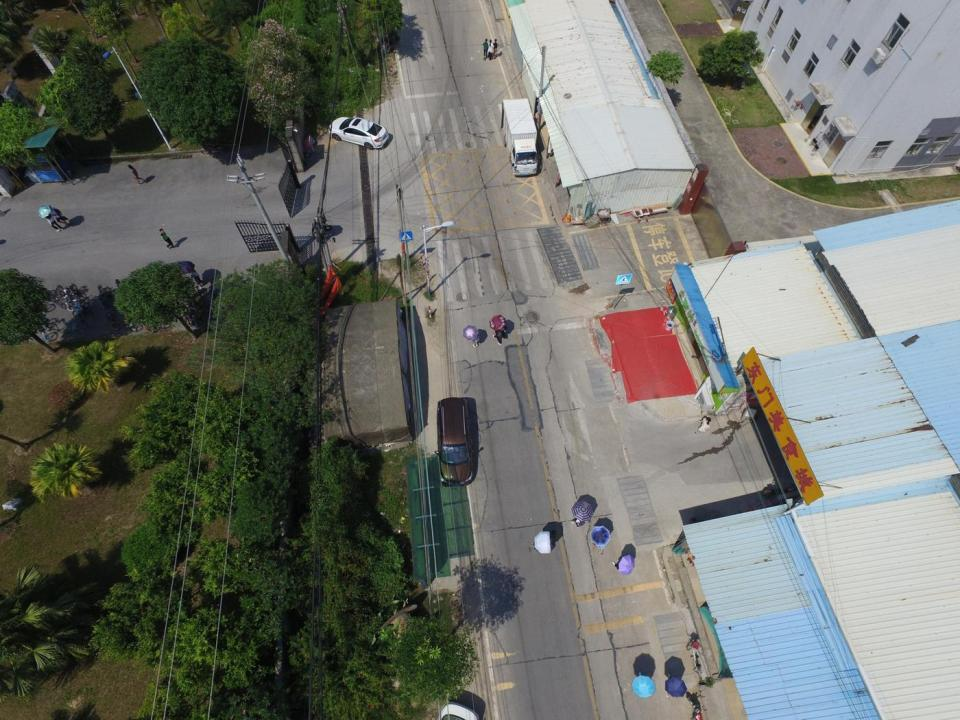car: (329, 115, 388, 148)
van: (438, 398, 475, 487), (501, 98, 538, 177)
